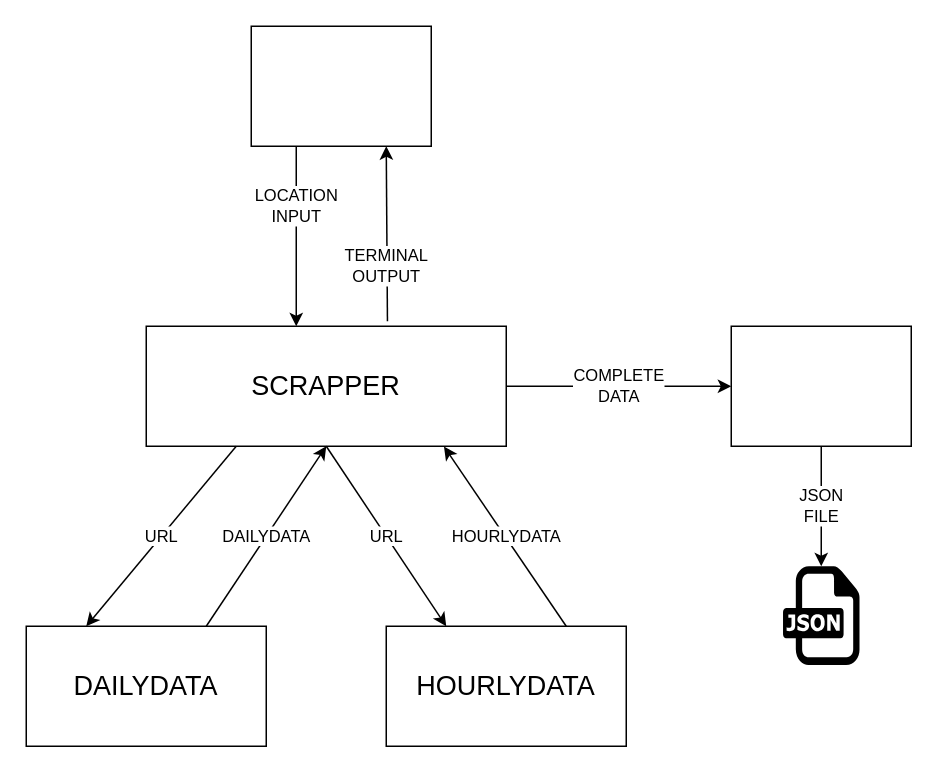
This 938x773 diagram has some shape labels left out. The box of each missing label's shape, as (x1, y1, x2, y2) in pixels:
JSON OUTPUT: (730, 325, 911, 446)
MAIN: (250, 25, 431, 146)
